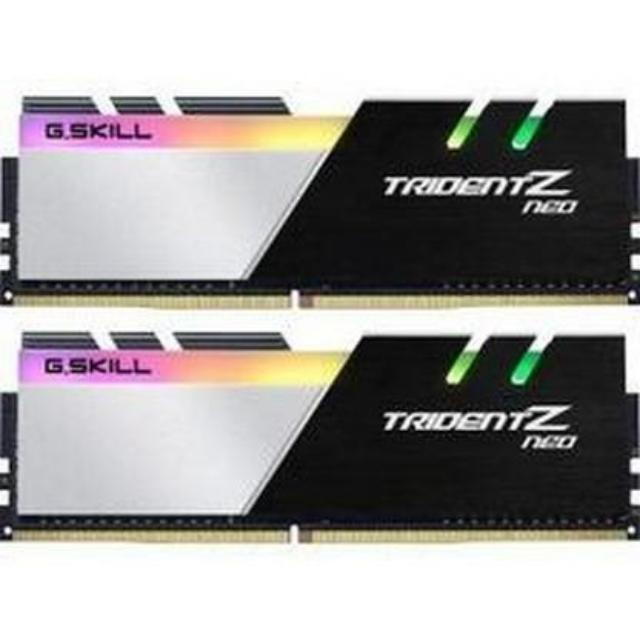RAM: (0, 87, 640, 318), (0, 322, 640, 553)
